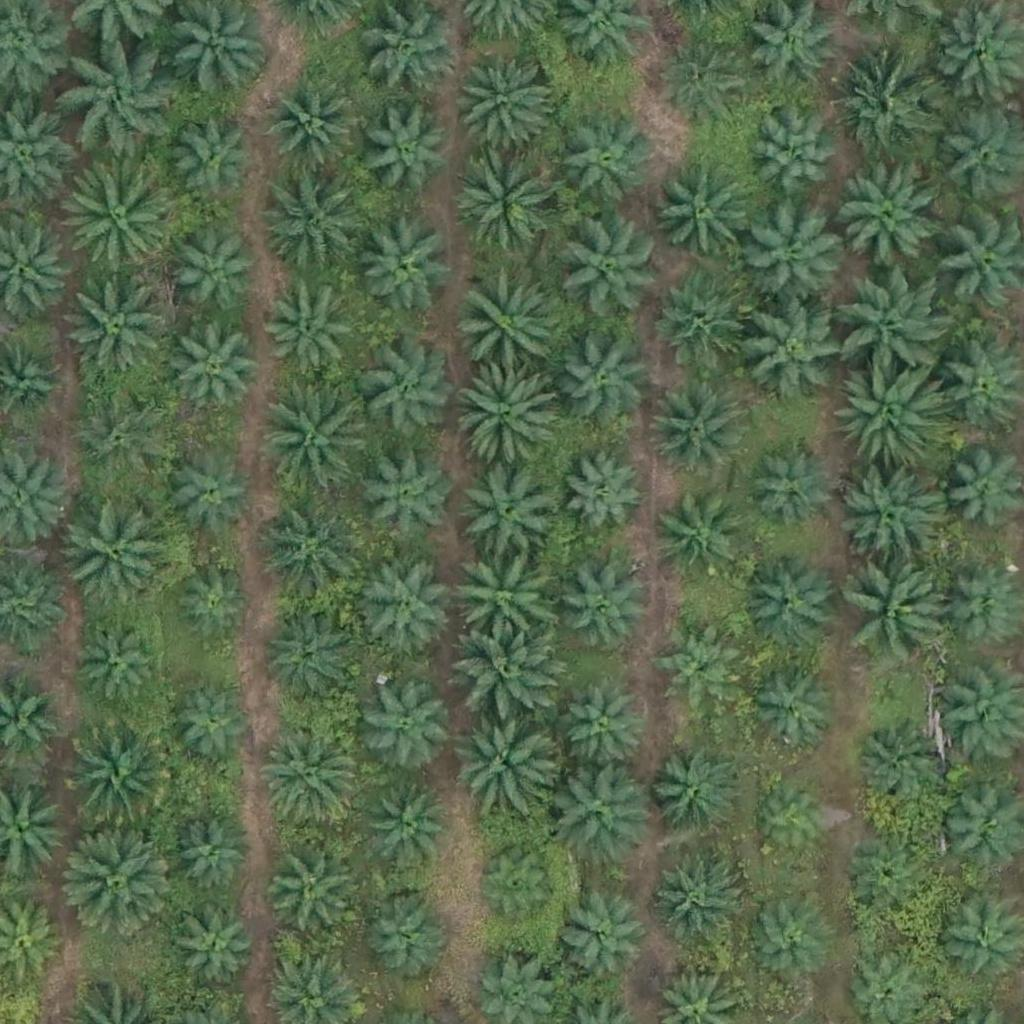Kelapa_Sawit: (58, 24, 183, 149), (554, 210, 667, 324), (65, 489, 178, 602), (835, 267, 948, 380), (260, 164, 373, 277), (259, 386, 372, 499), (64, 722, 176, 835), (60, 821, 172, 934), (832, 360, 944, 473), (453, 361, 565, 474), (62, 158, 174, 271), (56, 274, 168, 387), (453, 55, 553, 156), (653, 26, 753, 127), (833, 58, 933, 159), (260, 503, 360, 604), (261, 720, 361, 821), (352, 554, 452, 655), (453, 554, 553, 655), (451, 707, 551, 808), (554, 763, 654, 864), (847, 565, 947, 666), (854, 713, 954, 814), (836, 162, 936, 263), (743, 206, 843, 307), (654, 163, 754, 264), (461, 456, 561, 557), (355, 443, 455, 544), (359, 339, 459, 440), (354, 217, 454, 318), (261, 276, 361, 377), (551, 109, 651, 209), (458, 625, 558, 725), (737, 556, 837, 656), (744, 660, 844, 760), (838, 468, 938, 568), (748, 305, 848, 405), (647, 380, 747, 480), (654, 272, 754, 372), (451, 153, 551, 253), (455, 268, 555, 368), (653, 752, 741, 841), (171, 113, 259, 201), (265, 77, 353, 165), (364, 108, 452, 196), (268, 620, 356, 708), (362, 891, 450, 979), (563, 687, 651, 775), (555, 898, 643, 986), (656, 495, 744, 583), (656, 622, 744, 710), (653, 858, 741, 946), (849, 837, 937, 925), (743, 448, 831, 536), (169, 447, 257, 535), (74, 395, 162, 483), (169, 906, 256, 995), (365, 777, 452, 866), (172, 321, 259, 410), (751, 118, 838, 206), (78, 617, 165, 705), (171, 560, 258, 648), (168, 681, 255, 769), (173, 811, 260, 899), (267, 849, 354, 937), (365, 687, 452, 775), (471, 846, 558, 934), (560, 566, 647, 654), (746, 891, 833, 979), (561, 338, 648, 426), (562, 446, 649, 534), (168, 232, 255, 320), (756, 785, 831, 861)
